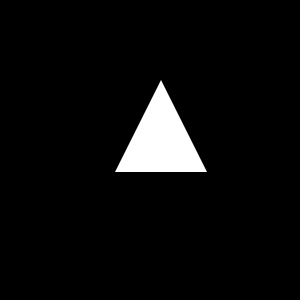triangle: (115, 80, 207, 172)
